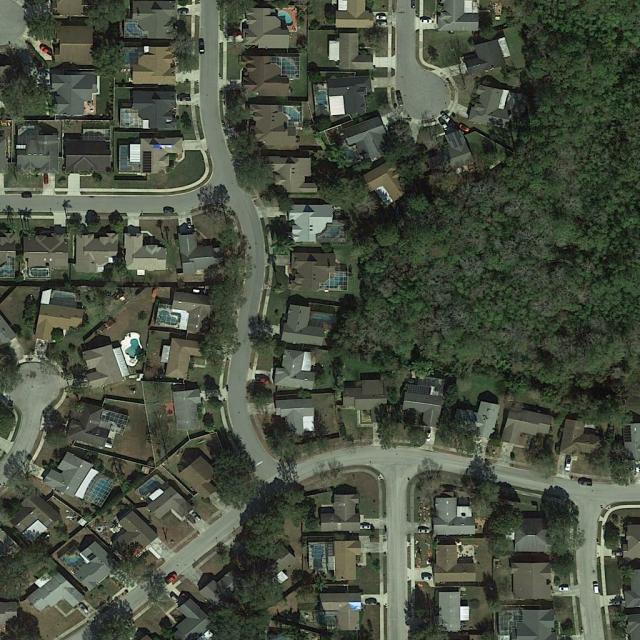small-vehicle: (164, 572, 180, 586), (395, 89, 406, 108), (190, 511, 202, 524), (39, 46, 54, 56), (78, 603, 90, 615), (458, 123, 471, 134), (170, 595, 181, 606), (439, 121, 450, 132), (440, 112, 452, 122), (564, 457, 572, 472), (199, 38, 206, 54), (425, 429, 432, 444), (163, 206, 175, 214), (366, 597, 378, 605), (579, 479, 592, 486), (21, 191, 32, 199), (592, 583, 600, 594), (44, 172, 50, 185), (418, 528, 431, 534), (422, 575, 433, 582), (376, 15, 388, 21), (376, 21, 388, 27), (421, 19, 433, 25), (179, 96, 191, 102), (559, 586, 571, 592), (178, 9, 189, 15), (359, 525, 372, 530), (186, 220, 192, 229)
